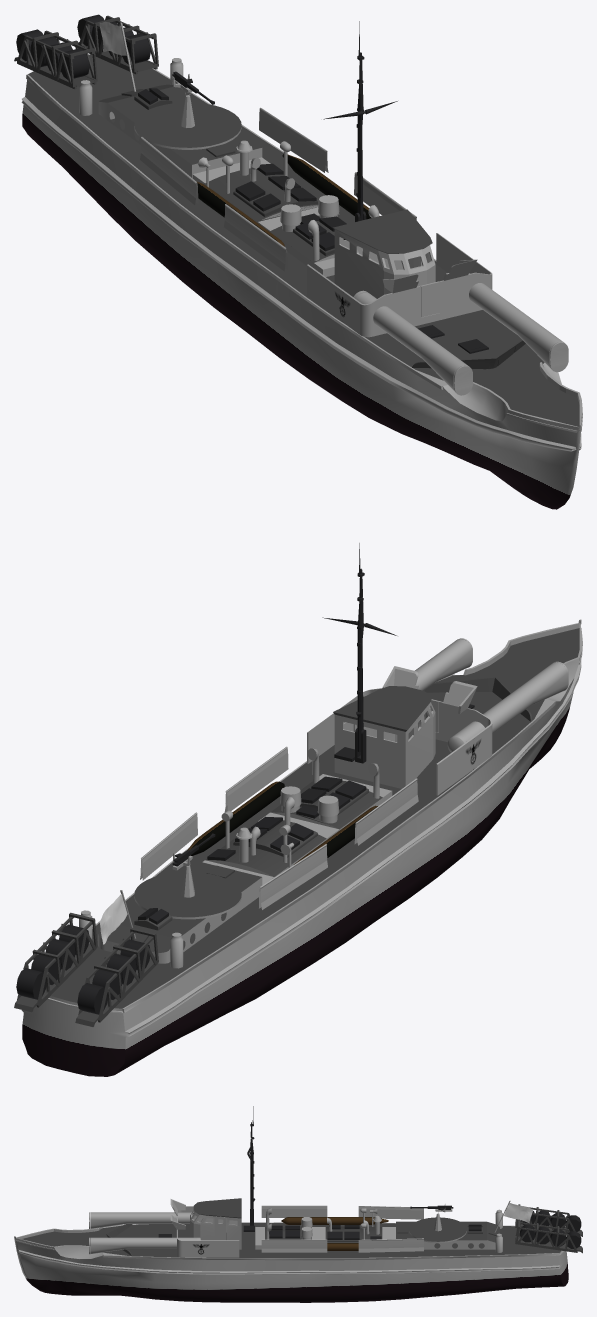
Rendered from eboat.FBX.
3 renders of one model, top to bottom at view 1: azimuth 30°, elevation 25°; view 2: azimuth 150°, elevation 25°; view 3: azimuth 270°, elevation 25°, orthographic. The views are drawn at different scales.
Visible parts, largest first — view 1: EB-CASCO, EB-CUBIE, EB-CUBI1, EB-PROPU, EB-TELAS, EB-LANZA, EB-PUEN, EB-BASMT, EB-AIR, EB-COMPU, EB-TECPU, EB-CARGA (+8 smaller); view 2: EB-CASCO, EB-CUBIE, EB-CUBI1, EB-TELAS, EB-PROPU, EB-PUEN, EB-LANZA, EB-CARGA, EB-BASMT, EB-AIR, EB-COMPU, EB-TECPU (+8 smaller); view 3: EB-CASCO, EB-CUBIE, EB-TELAS, EB-CUBI1, EB-LANZA, EB-PROPU, EB-CARGA, EB-BASMT, EB-COMPU, EB-PUEN, EB-AIR, EB-PUECG (+6 smaller).
Boxes of the visible parts, x1,y1,x2,y2 form: EB-CASCO: (21, 68, 582, 509); EB-CUBIE: (28, 54, 579, 426); EB-CUBI1: (98, 84, 350, 276); EB-PROPU: (307, 233, 492, 337); EB-TELAS: (140, 107, 416, 271); EB-LANZA: (356, 273, 564, 391); EB-PUEN: (334, 229, 435, 298); EB-BASMT: (134, 102, 241, 149); EB-AIR: (79, 58, 379, 260); EB-COMPU: (138, 88, 488, 353); EB-TECPU: (333, 209, 432, 253); EB-CARGA: (16, 14, 150, 79); EB-CASCO: (21, 619, 582, 1076); EB-CUBIE: (51, 628, 579, 1008); EB-CUBI1: (98, 774, 392, 963); EB-TELAS: (140, 746, 418, 909); EB-PROPU: (307, 666, 492, 795); EB-PUEN: (334, 702, 435, 788); EB-LANZA: (415, 639, 567, 741); EB-CARGA: (16, 924, 149, 1014); EB-BASMT: (134, 872, 241, 919); EB-AIR: (79, 748, 379, 968); EB-COMPU: (138, 704, 474, 924); EB-TECPU: (333, 686, 432, 731); EB-CASCO: (14, 1222, 568, 1302); EB-CUBIE: (21, 1223, 565, 1257); EB-TELAS: (261, 1205, 424, 1252); EB-CUBI1: (255, 1221, 499, 1249); EB-LANZA: (90, 1212, 197, 1254); EB-PROPU: (170, 1199, 239, 1257); EB-CARGA: (520, 1210, 581, 1248); EB-BASMT: (409, 1217, 466, 1242); EB-COMPU: (158, 1224, 481, 1239); EB-PUEN: (190, 1210, 241, 1249); EB-AIR: (265, 1207, 502, 1252); EB-PUECG: (515, 1220, 577, 1252).
Size of the model in its own units: 140 by 339 by 923.
Materials: 7 (5 with a texture image).
